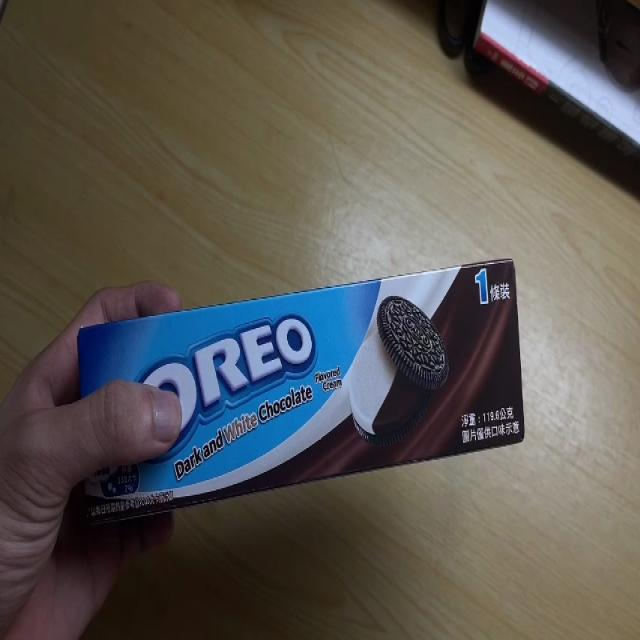Oreo: (74, 254, 526, 527)
